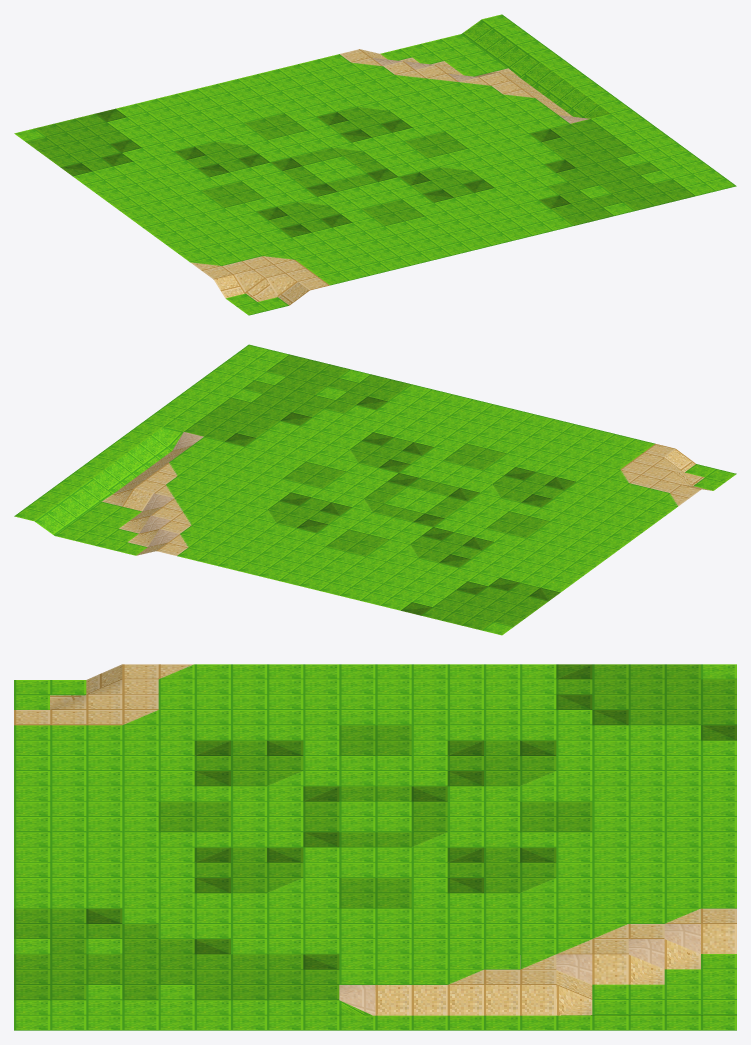
The model's file is FloorSide_1.obj.
3 renders of one model, top to bottom at view 1: azimuth 30°, elevation 25°; view 2: azimuth 150°, elevation 25°; view 3: azimuth 270°, elevation 25°, orthographic. The views are drawn at different scales.
Visible parts, largest first — view 1: FloorSide_1; view 2: FloorSide_1; view 3: FloorSide_1.
Boxes of the visible parts, left/top/right/bottom form: FloorSide_1: left=14, top=14, right=736, bottom=315; FloorSide_1: left=14, top=344, right=736, bottom=635; FloorSide_1: left=14, top=664, right=736, bottom=1030.
Bounding box in the file's own units: 24 × 0.5018 × 20.
